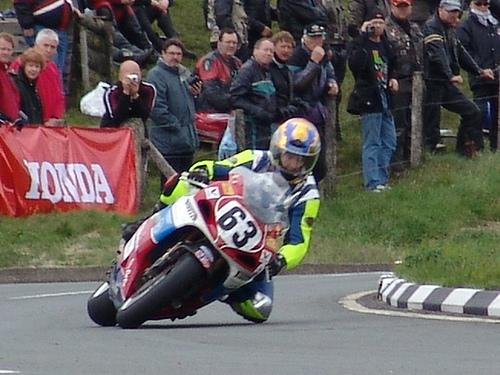motorbike: (87, 166, 289, 330)
